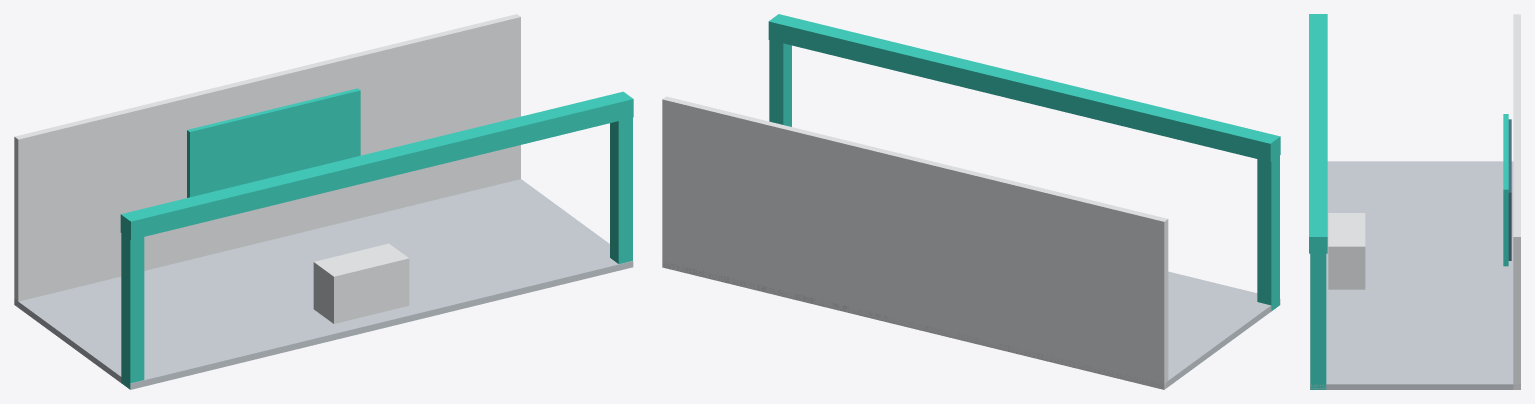
The picture shows the model from 3 angles, left to right: view 1: azimuth 30°, elevation 25°; view 2: azimuth 150°, elevation 25°; view 3: azimuth 270°, elevation 25°; orthographic projection. The views are drawn at different scales.
Visible parts, largest first — view 1: Exhibition Booth Concept; view 2: Exhibition Booth Concept; view 3: Exhibition Booth Concept.
Part boxes in pixels (bbox=[...]): Exhibition Booth Concept: bbox=[14, 14, 633, 389]; Exhibition Booth Concept: bbox=[662, 14, 1280, 389]; Exhibition Booth Concept: bbox=[1309, 14, 1520, 389].
Bounding box in the file's own units: 10 × 3.2 × 4.02.
